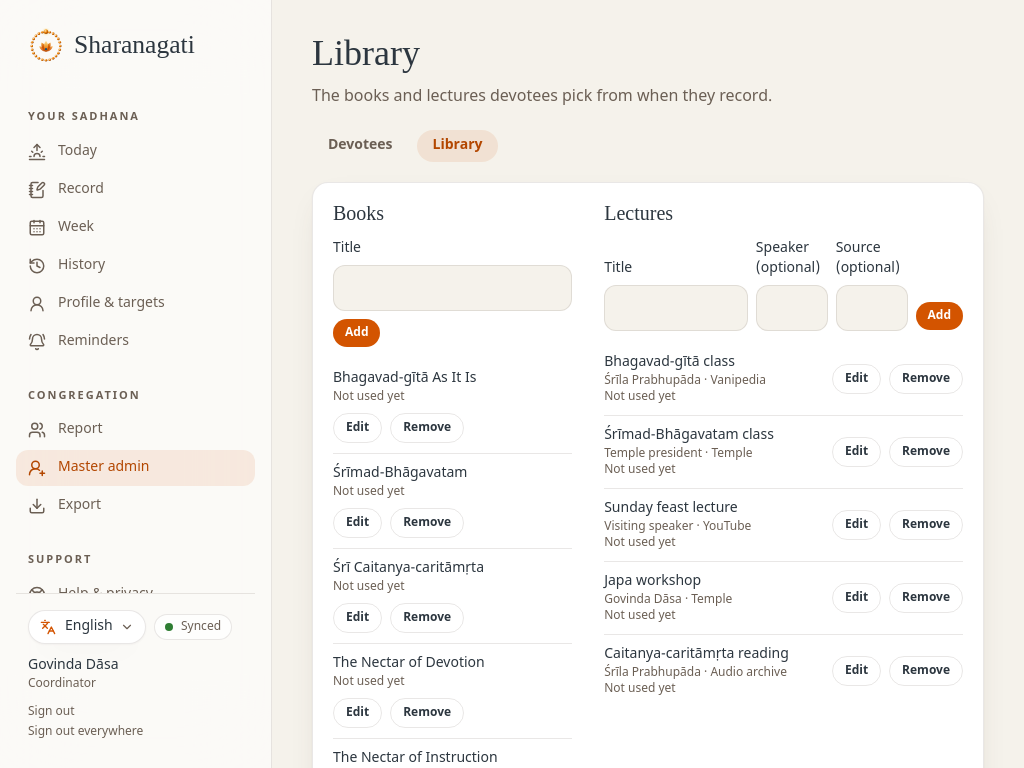
Test: LibraryManager › adds a lecture with its speaker and source, offering the speakers already known
The width and height of the screenshot is (1024, 768).
Expected: the text "Japa workshop" is shown, [604,572,701,591]
Type "Nectar of Devotion seminar" into the field labelled "Title" below "Speaker (optional)" at coordinates (676, 308), box [604,285,748,331]
Type "Govinda Dāsa" into the field labelled "Speaker (optional)" at coordinates (792, 308), box [756,285,828,331]
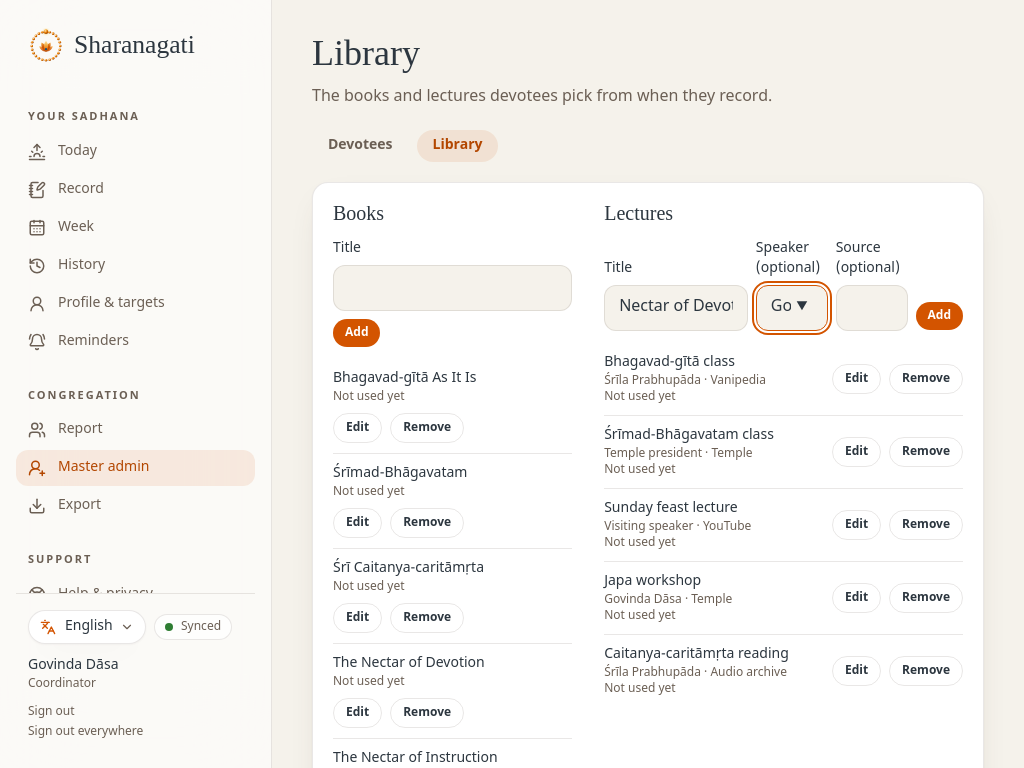
Type "Temple" into the field labelled "Source (optional)" at coordinates (872, 308), box [836,285,908,331]
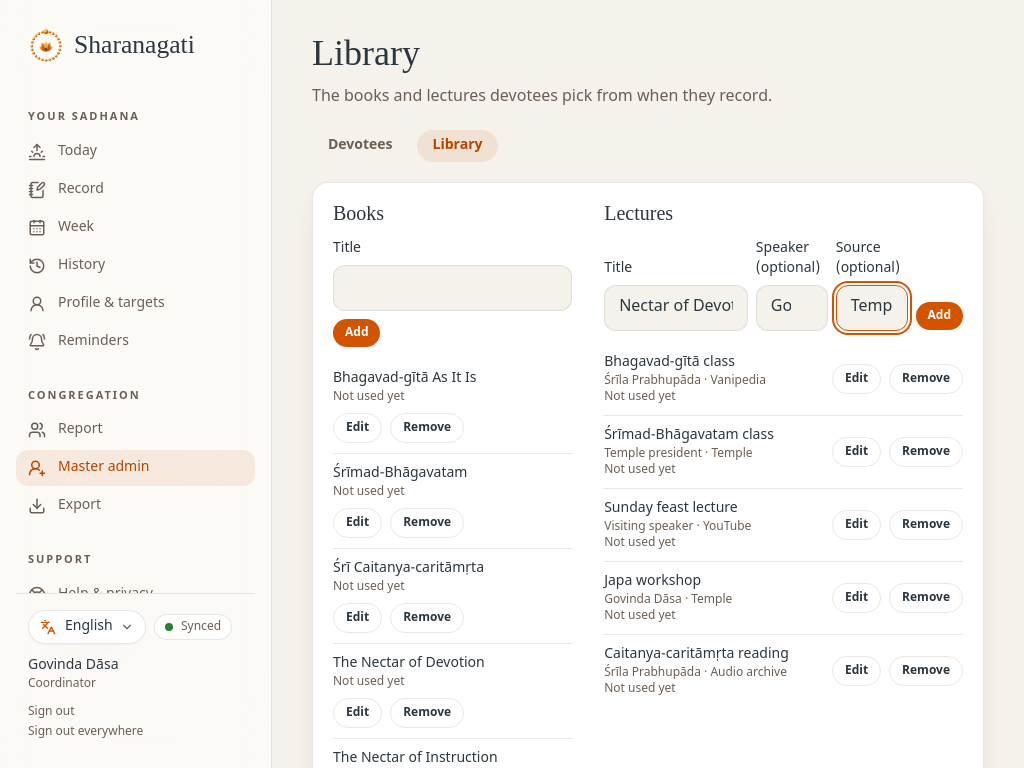
Click the button "Add" below "Speaker (optional)" at coordinates (939, 316), box [916,302,963,330]
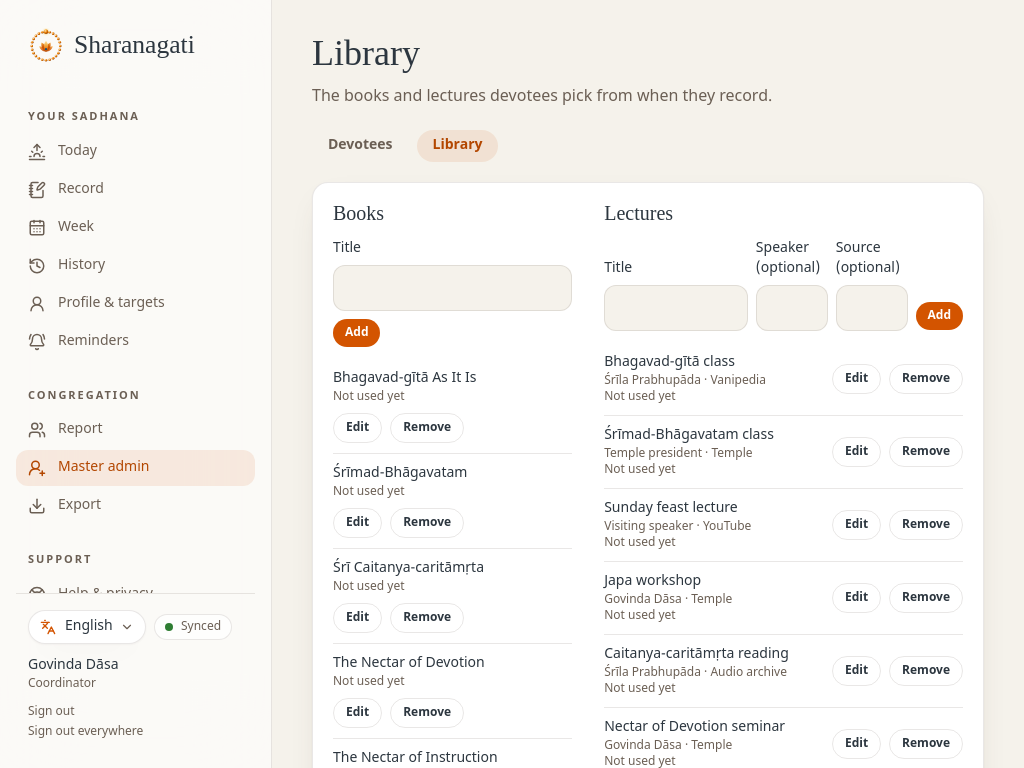
Now the text "Govinda Dāsa · Temple" below "Nectar of Devotion seminar" is shown, box [604,738,732,754]
Type "nectar of devotion seminar" into the field labelled "Title" below "Speaker (optional)" at coordinates (676, 308), box [604,285,748,331]
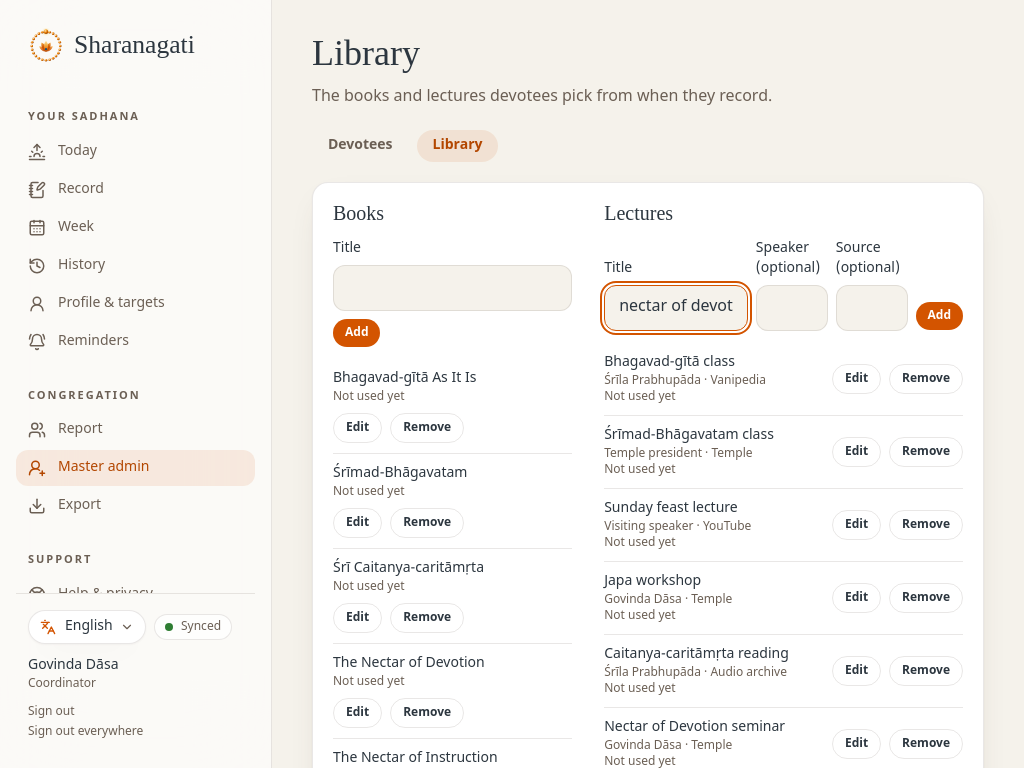
Type "govinda dāsa" into the field labelled "Speaker (optional)" at coordinates (792, 308), box [756,285,828,331]
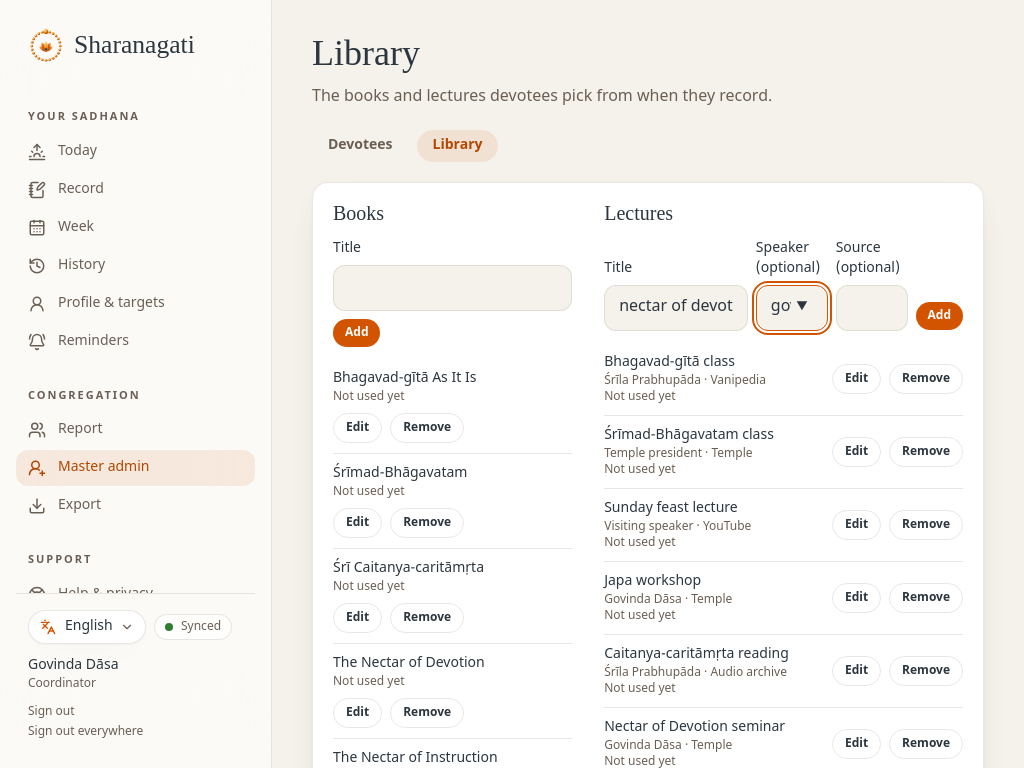
Click the button "Add" below "Speaker (optional)" at coordinates (939, 316), box [916,302,963,330]
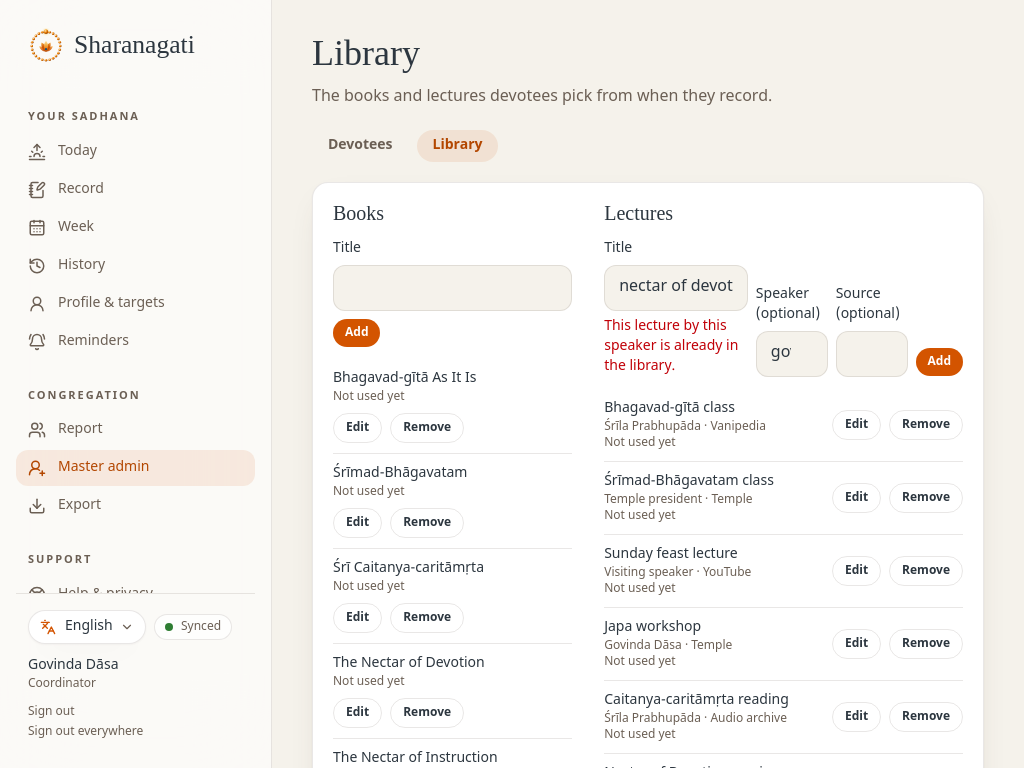
Now the text "This lecture by this speaker is already in the library." is shown, box [604,317,748,377]
